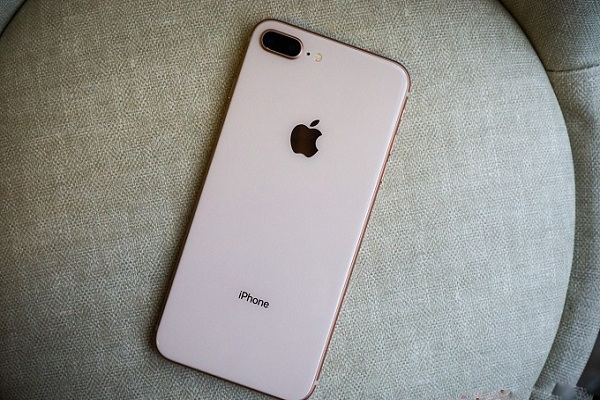iphone: (152, 18, 411, 400)
iphone8: (150, 15, 409, 397)
